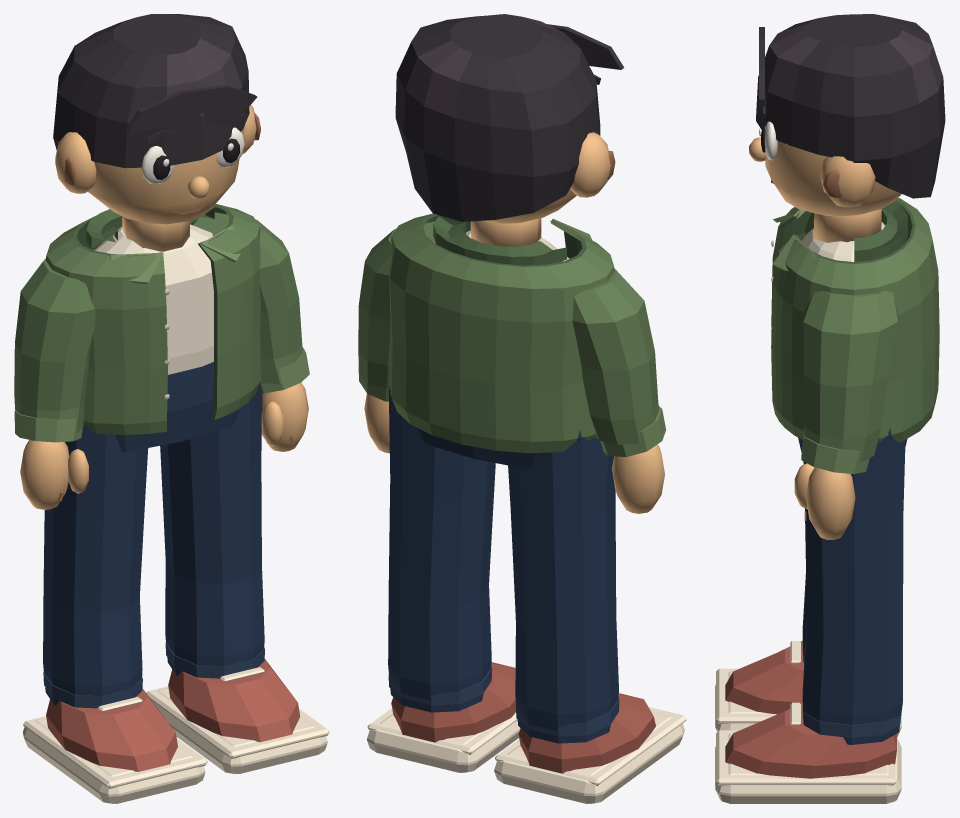
File: campus_visitor_man_v01.glb
The picture shows the model from 3 angles, left to right: view 1: azimuth 30°, elevation 25°; view 2: azimuth 150°, elevation 25°; view 3: azimuth 270°, elevation 25°; orthographic projection. The views are drawn at different scales.
Parts seen in each view (by area): view 1: campus_visitor_man; view 2: campus_visitor_man; view 3: campus_visitor_man.
Part boxes in pixels (<box>): campus_visitor_man: <box>14,14,329,803</box>; campus_visitor_man: <box>358,14,686,803</box>; campus_visitor_man: <box>715,14,945,803</box>.
Bounding box in the file's own units: 0.7738 × 1.81 × 0.5191.
1 material, 1 textured.
